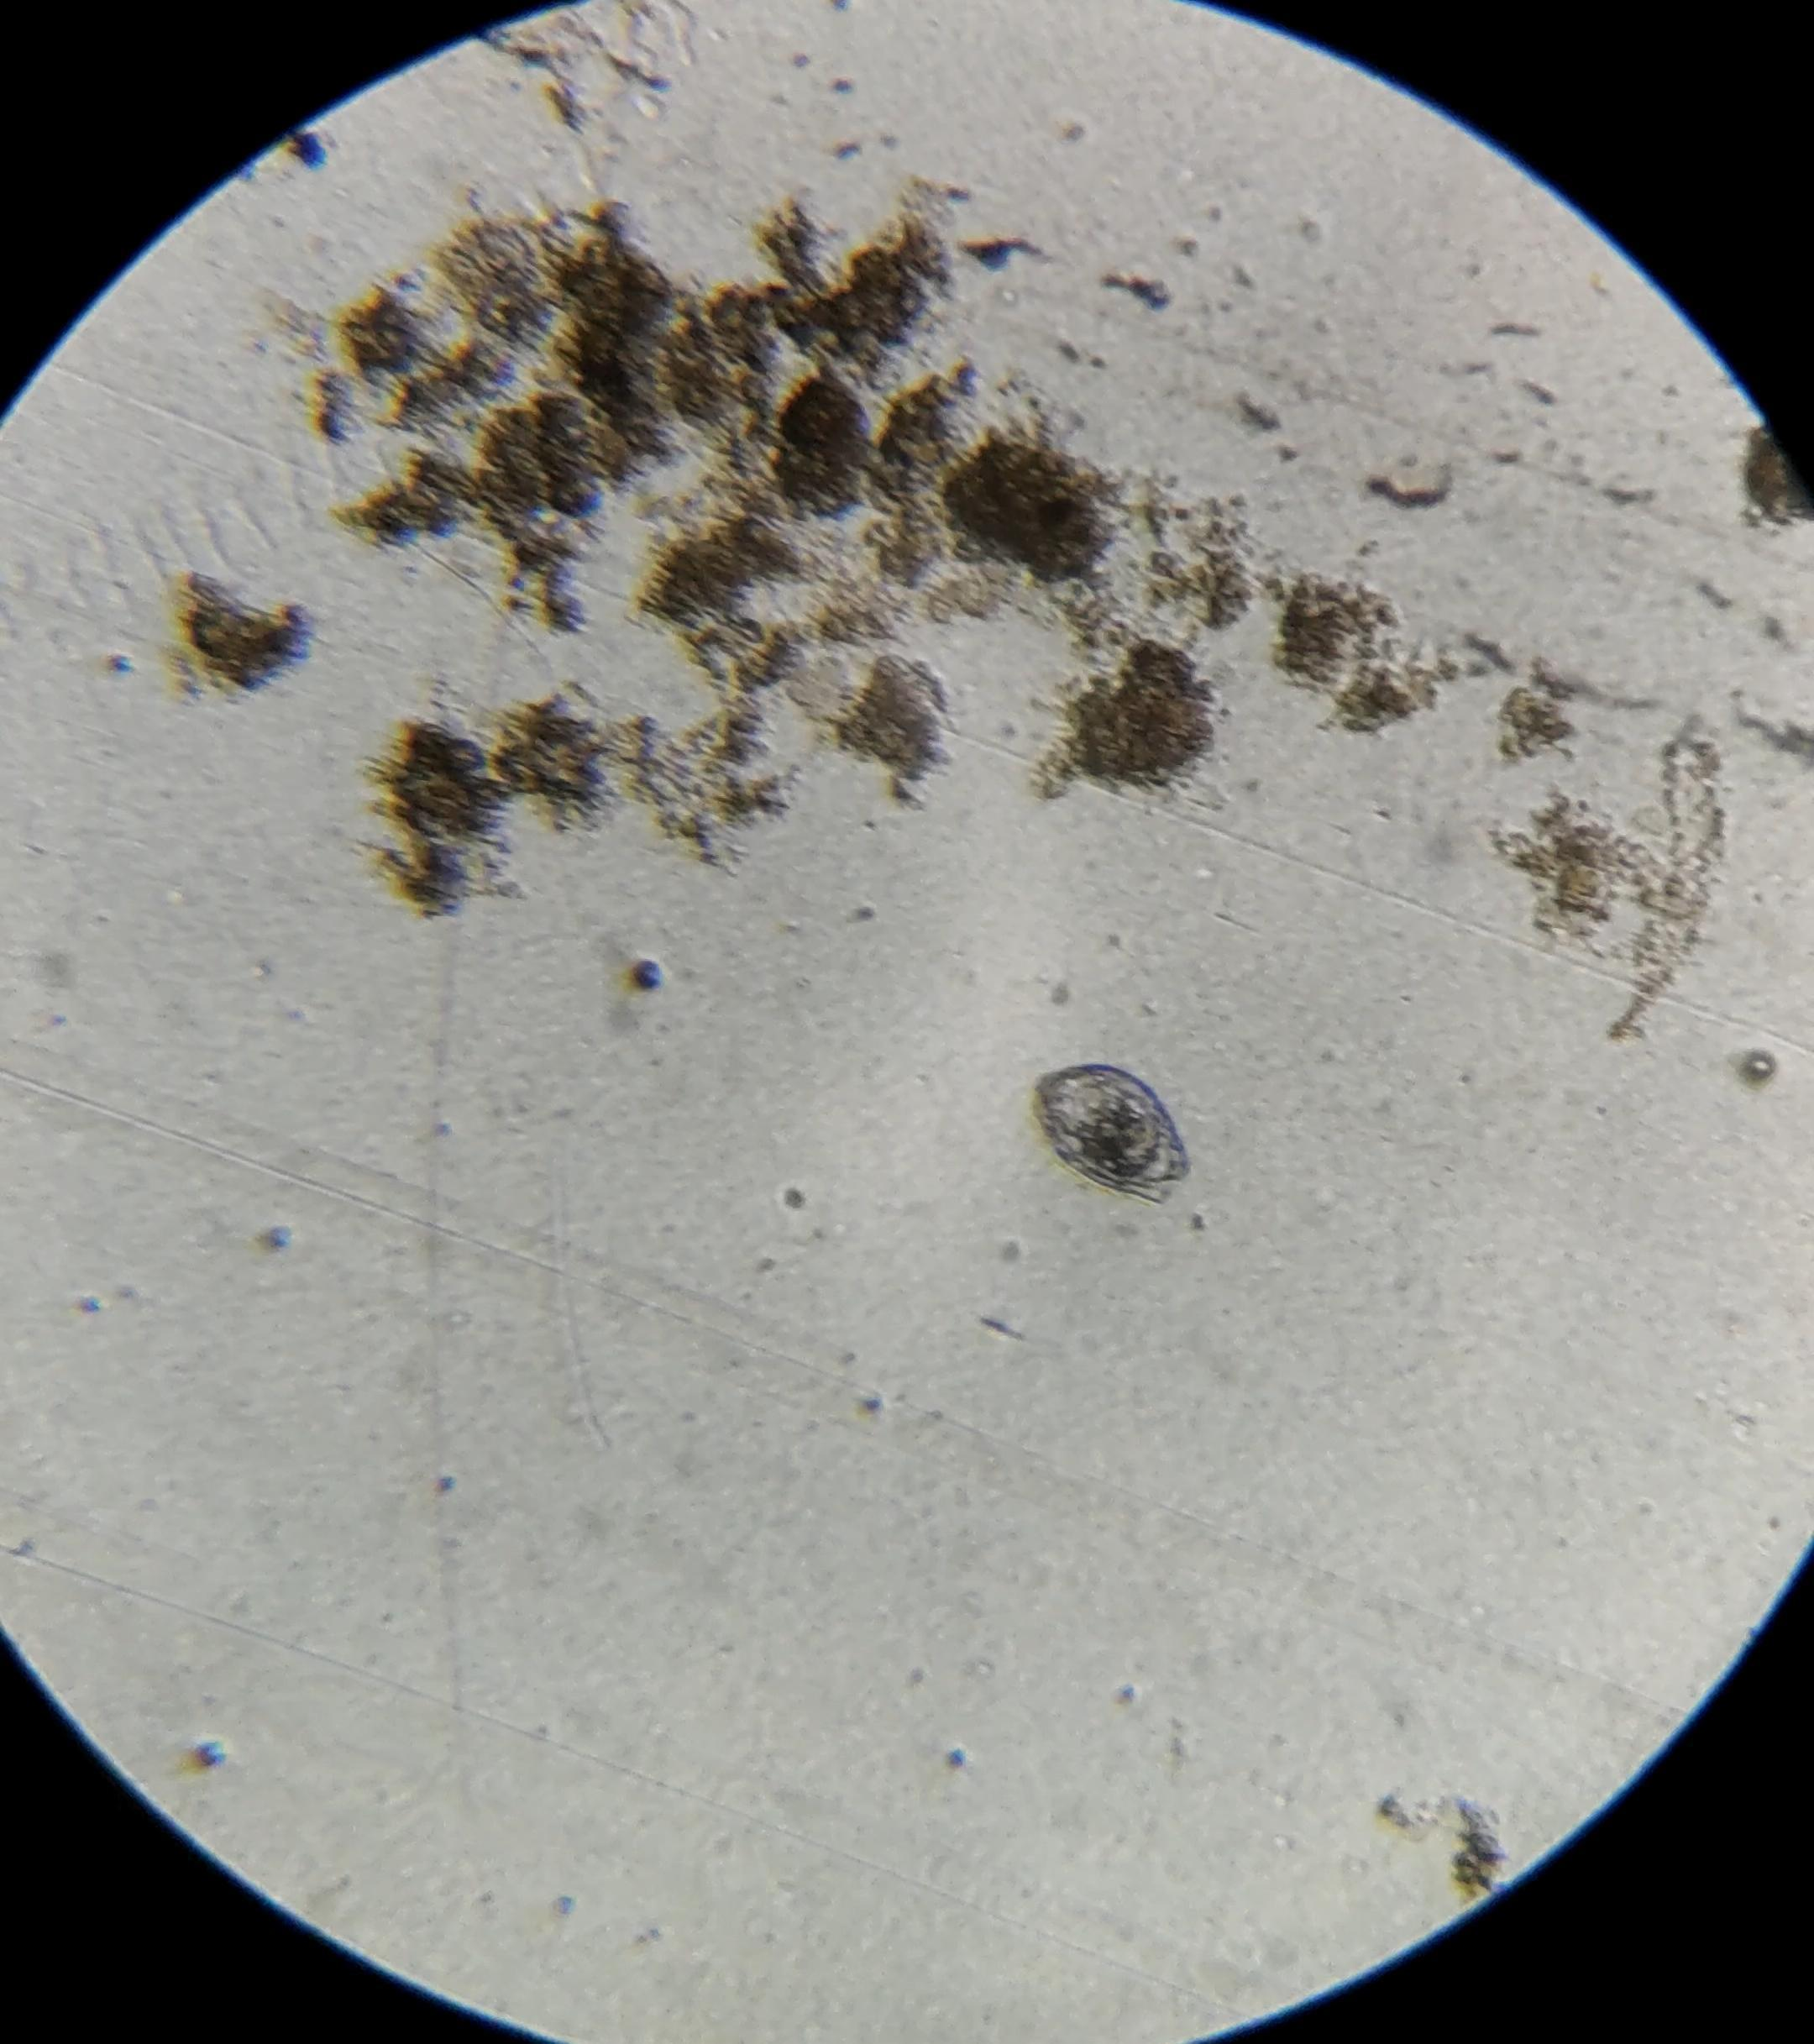Mo: (1035, 1065, 1189, 1205)
